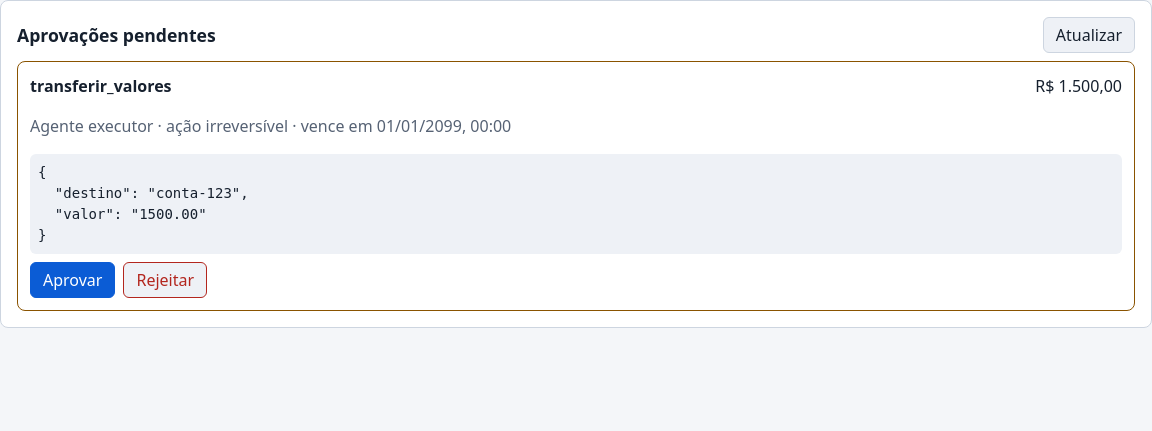
InboxPanel › aprovar chama POST /api/inbox/:id/decision com { approved: true } e o item sai no approval_executed
Later steps or results of the test are not shown.
Click the button "Aprovar" at coordinates (73, 280), box [30,262,115,298]
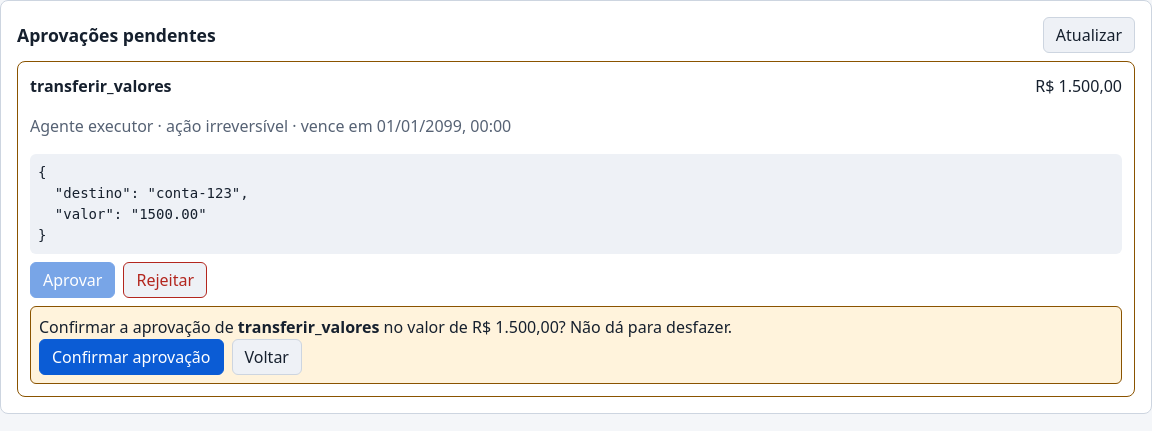
Click the button "Confirmar aprovação" at coordinates (131, 357), box [39,339,224,375]
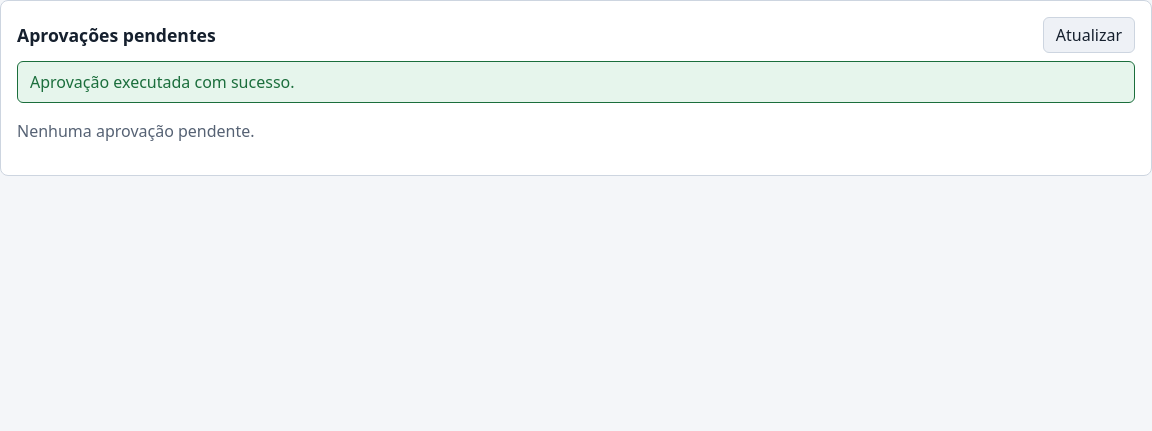
Expected: the list item is gone
Expected: the message shows "executada", [30,71,294,93]
